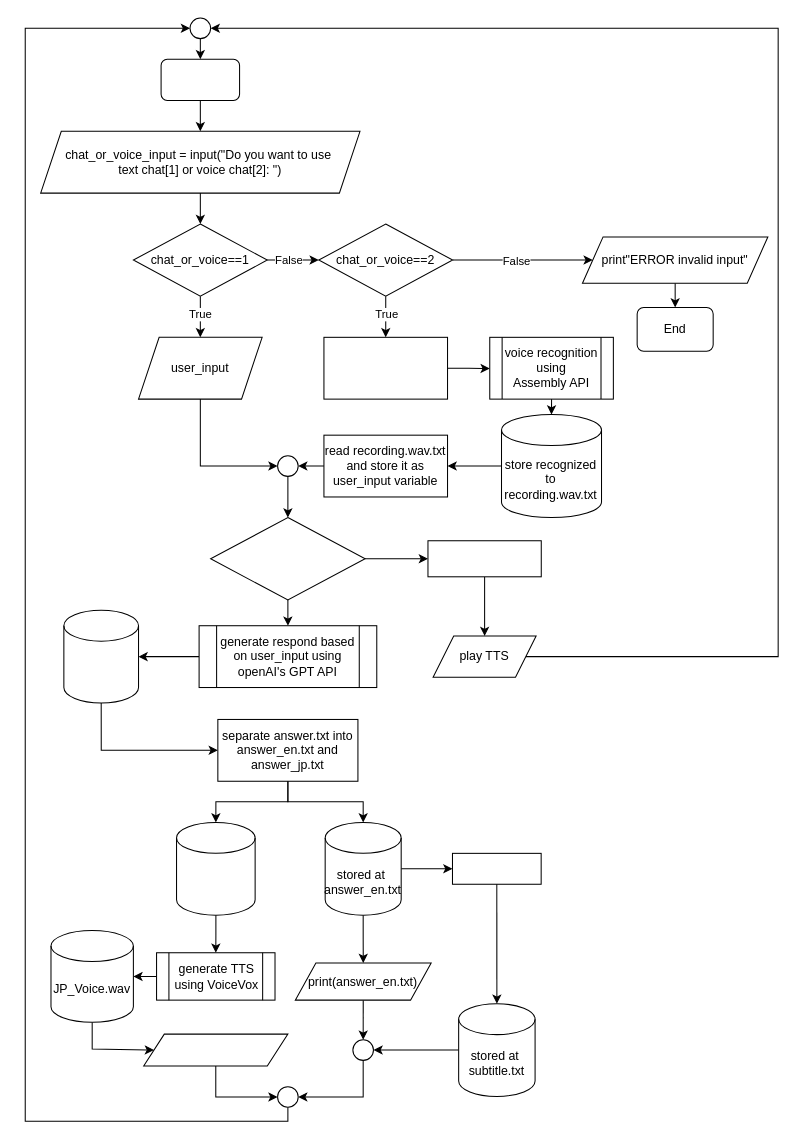
The diagram is 804 pixels wide and 1147 high, and some of its shapes have lost their labels. The shapes that lost their labels are listed below. From the top down, each one's box as (x1, y1, x2, y2) in pixels, then its label:
(160, 58, 240, 100): Start
(323, 336, 448, 399): record voice using record_voice() function
(210, 517, 365, 600): if any(condition in user_input)
(427, 540, 541, 577): execute script
(63, 609, 139, 703): store respond at answer.txt
(176, 821, 255, 915): stored at answer_jp.txt
(451, 852, 541, 884): text arrange
(143, 1033, 288, 1066): play(JP_Voice.wav)
